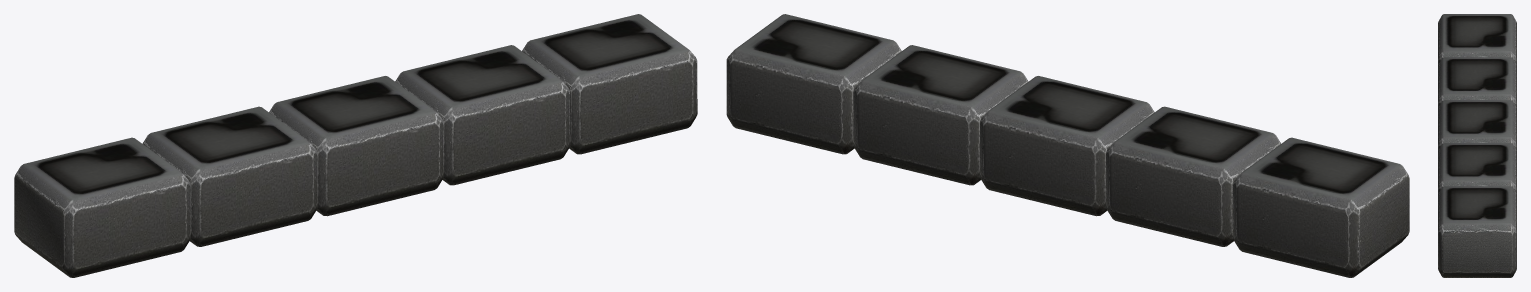
Rendered from Lintel.fbx.
The picture shows the model from 3 angles, left to right: view 1: azimuth 30°, elevation 25°; view 2: azimuth 150°, elevation 25°; view 3: azimuth 270°, elevation 25°; orthographic projection. The views are drawn at different scales.
Visible parts, largest first — view 1: Pillar_Corner_01.001; view 2: Pillar_Corner_01.001; view 3: Pillar_Corner_01.001.
Part boxes in pixels (box(x1,y1,x2,y2)): Pillar_Corner_01.001: box(14, 14, 697, 277); Pillar_Corner_01.001: box(726, 14, 1409, 277); Pillar_Corner_01.001: box(1438, 14, 1516, 277).
Size of the model in its own units: 302 by 35.56 by 46.71.
